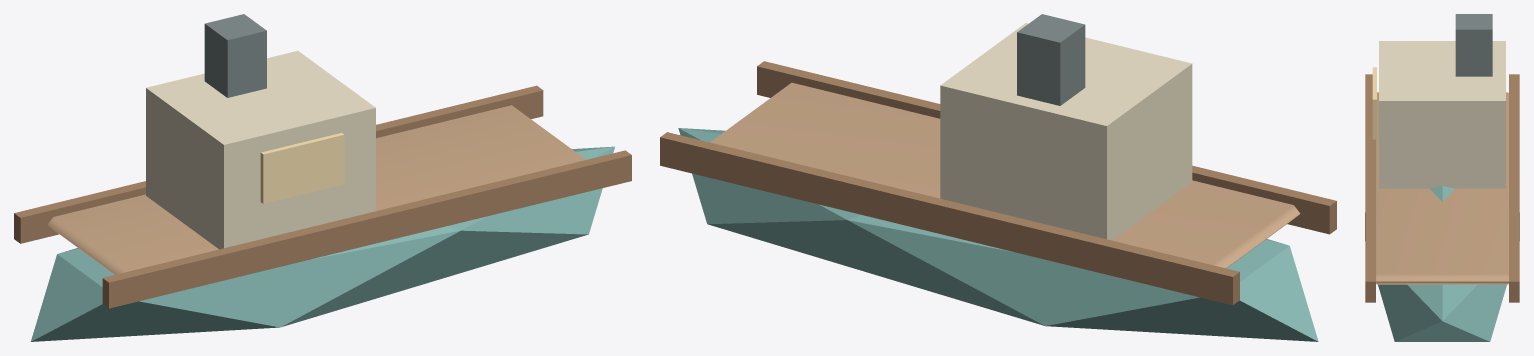
Rendered from blue-trawler.glb.
3 views of the same model, side by side, from view 1: azimuth 30°, elevation 25°; view 2: azimuth 150°, elevation 25°; view 3: azimuth 270°, elevation 25° (orthographic). The views are drawn at different scales.
Parts seen in each view (by area): view 1: Faceted boat hull, Wheelhouse, Boat deck, Gunwale, Gunwale.001, Funnel, Wheelhouse pane; view 2: Wheelhouse, Faceted boat hull, Boat deck, Gunwale.001, Gunwale, Funnel; view 3: Wheelhouse, Boat deck, Faceted boat hull, Gunwale.001, Funnel, Gunwale, Wheelhouse pane.
Boxes of the visible parts, x1,y1,x2,y2 form: Faceted boat hull: [30, 146, 614, 341]; Wheelhouse: [146, 51, 375, 249]; Boat deck: [47, 105, 585, 274]; Gunwale: [102, 150, 631, 308]; Gunwale.001: [14, 85, 543, 243]; Funnel: [204, 14, 266, 97]; Wheelhouse pane: [260, 133, 344, 203]; Wheelhouse: [940, 23, 1192, 240]; Faceted boat hull: [678, 128, 1318, 341]; Boat deck: [710, 82, 1300, 268]; Gunwale.001: [660, 132, 1239, 305]; Gunwale: [757, 61, 1336, 234]; Funnel: [1017, 14, 1085, 105]; Wheelhouse: [1379, 41, 1505, 188]; Boat deck: [1376, 92, 1508, 284]; Faceted boat hull: [1365, 186, 1519, 341]; Gunwale.001: [1509, 74, 1519, 302]; Funnel: [1455, 14, 1492, 76]; Gunwale: [1365, 74, 1375, 302]; Wheelhouse pane: [1372, 67, 1376, 139].
Size of the model in its own units: 5.19 by 2.36 by 1.46.
